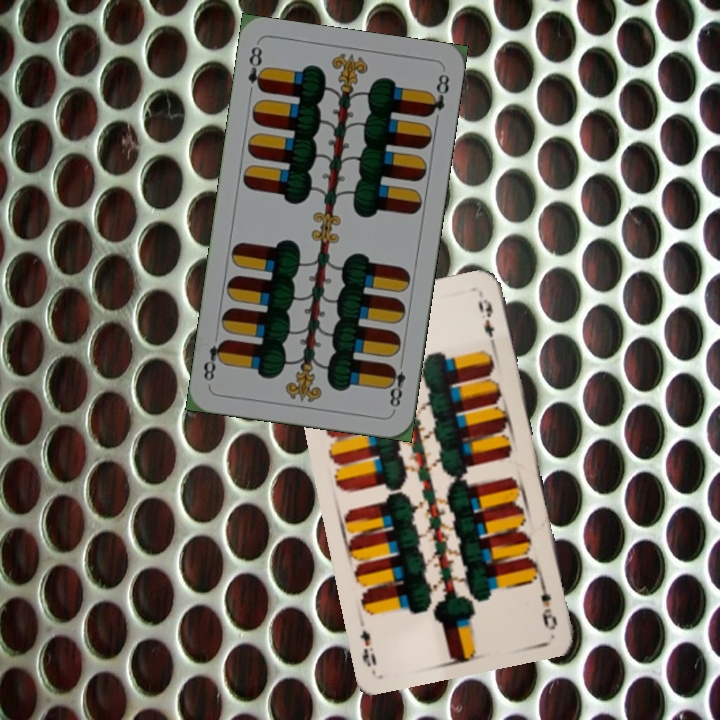E8: (383, 355, 408, 413), (244, 42, 269, 95)
E9: (536, 575, 560, 633)
